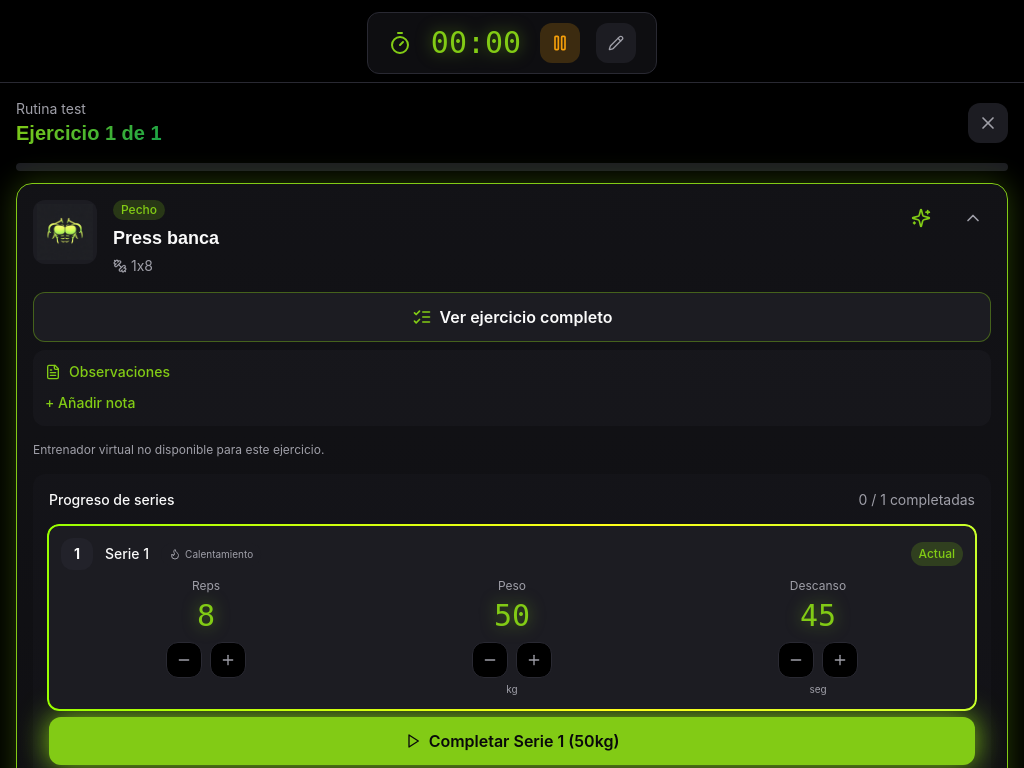
Test: secuencia de la cartela de récord personal › sin récord el flujo queda idéntico (descanso sin cartela)
Click the button "Completar Serie 1 (50kg)": (512, 741) [49,717,975,765]
(page scrolled)
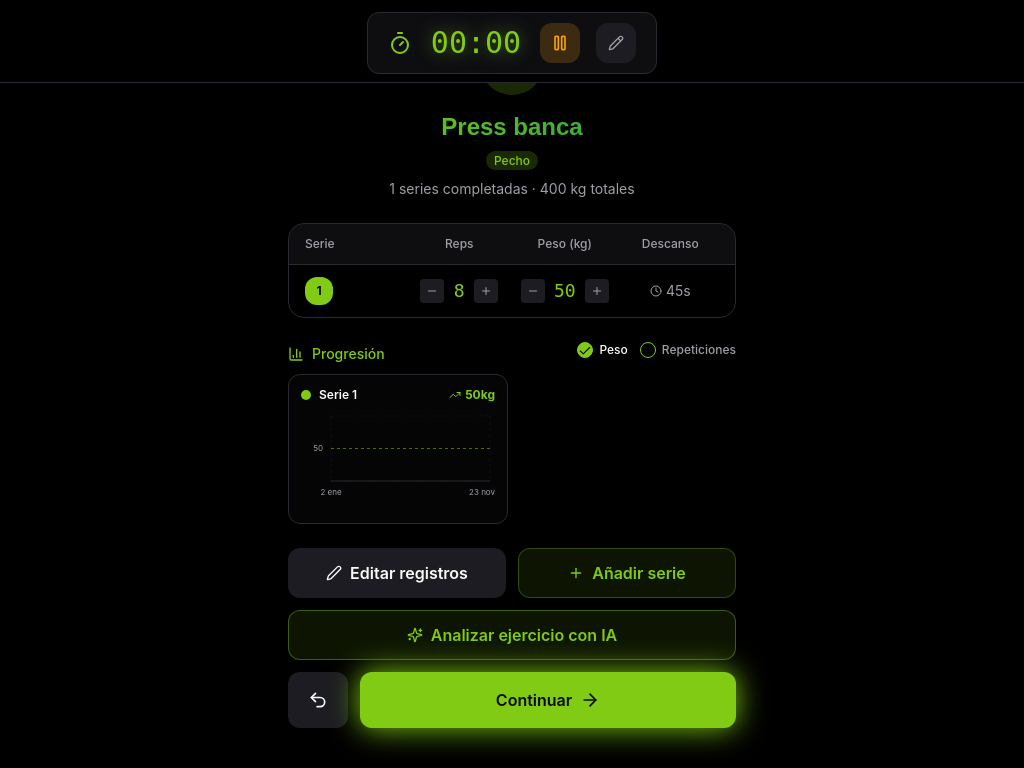
Click the button "Continuar": (548, 700) [360,672,736,728]
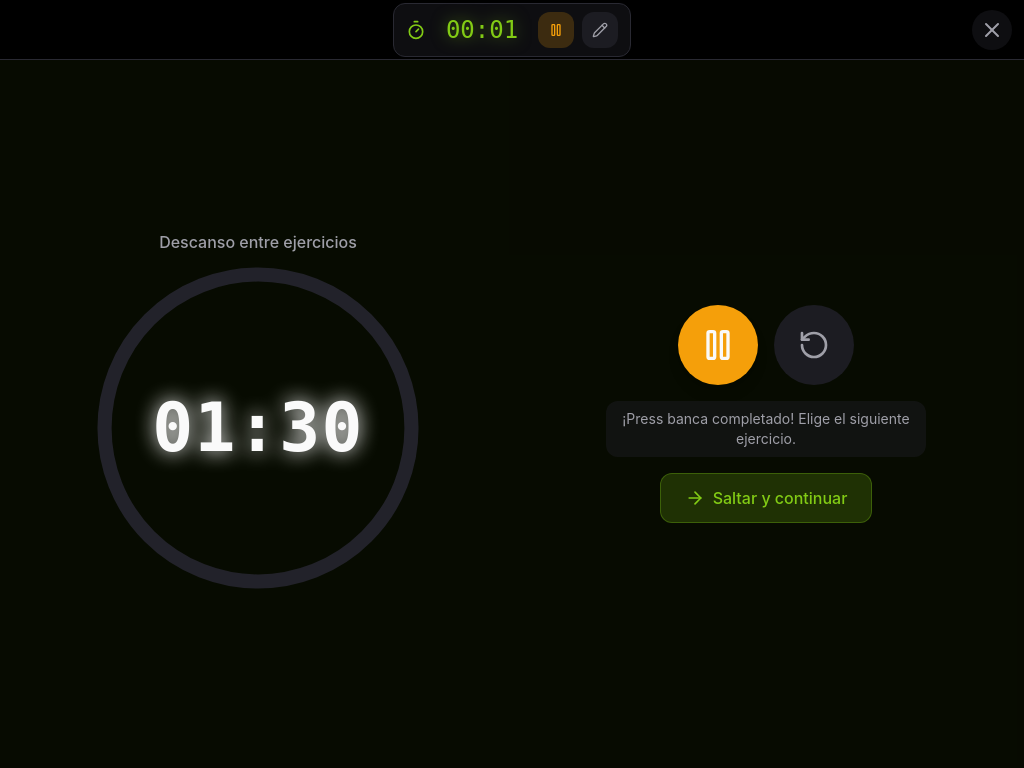
Now the text "Descanso entre ejercicios" is shown, box [159,230,357,254]
